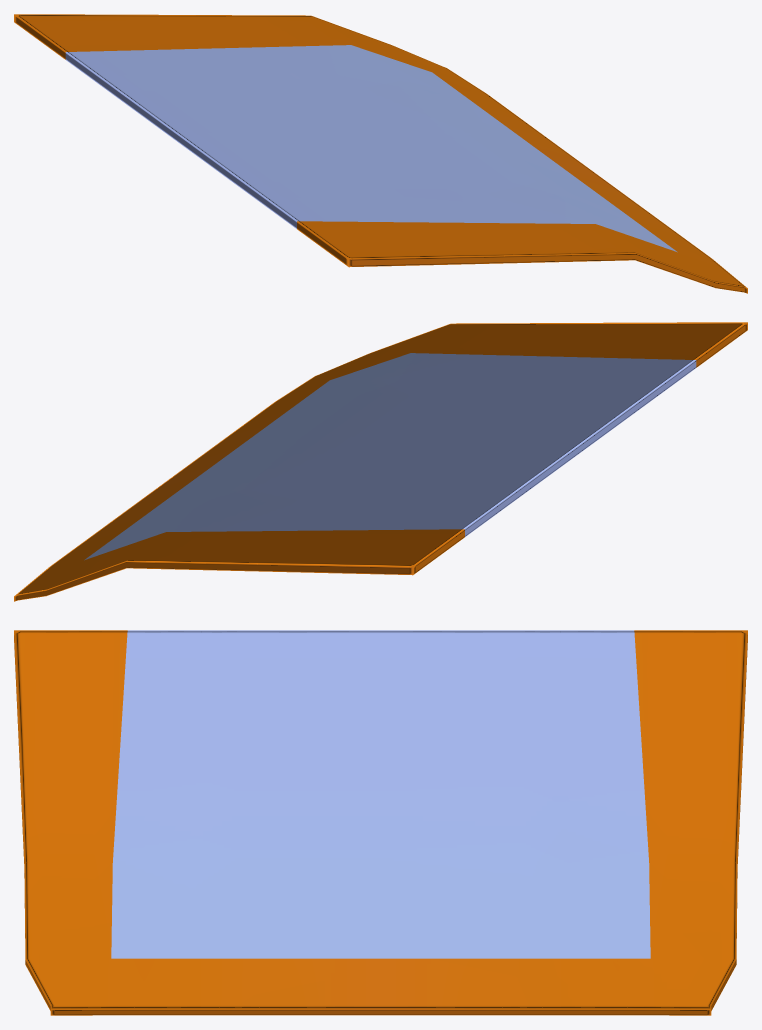
Rendered from PortaMalasCarro.fbx.
The picture shows the model from 3 angles, top to bottom: view 1: azimuth 30°, elevation 25°; view 2: azimuth 150°, elevation 25°; view 3: azimuth 270°, elevation 25°; orthographic projection. The views are drawn at different scales.
Parts seen in each view (by area): view 1: PortaMalasCarro; view 2: PortaMalasCarro; view 3: PortaMalasCarro.
Part boxes in pixels (x1,y1,x2,y2): PortaMalasCarro: (14, 14, 747, 293); PortaMalasCarro: (14, 322, 747, 601); PortaMalasCarro: (14, 630, 747, 1015).
Bounding box in the file's own units: 90.5 × 30.67 × 125.
